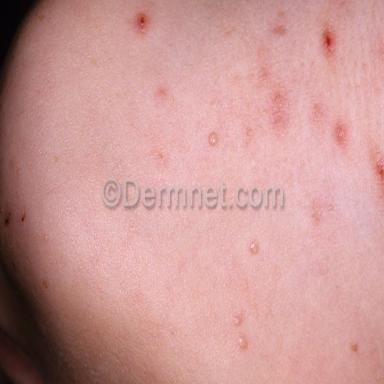Molluscum-Contagiosum: (209, 131, 218, 147), (238, 336, 247, 349), (250, 242, 259, 254), (234, 315, 240, 325)
